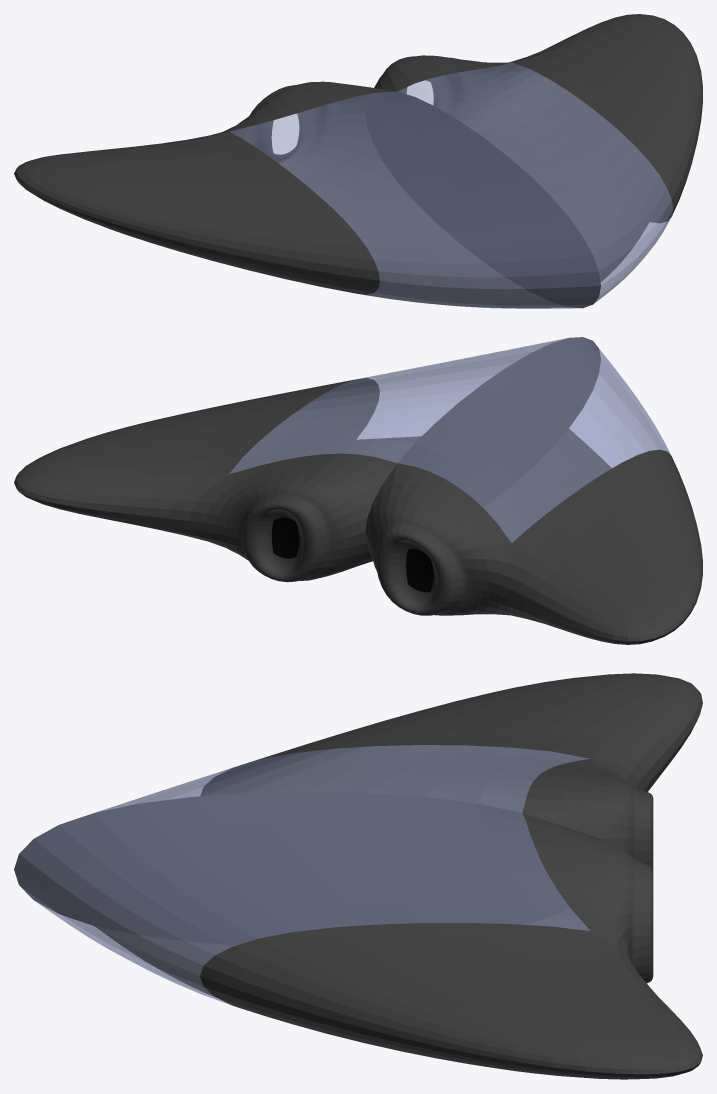
Rendered from ship.obj.
3 renders of one model, top to bottom at view 1: azimuth 30°, elevation 25°; view 2: azimuth 150°, elevation 25°; view 3: azimuth 270°, elevation 25°, orthographic. The views are drawn at different scales.
Bounding box in the file's own units: 0.9977 × 0.1852 × 0.7313.
